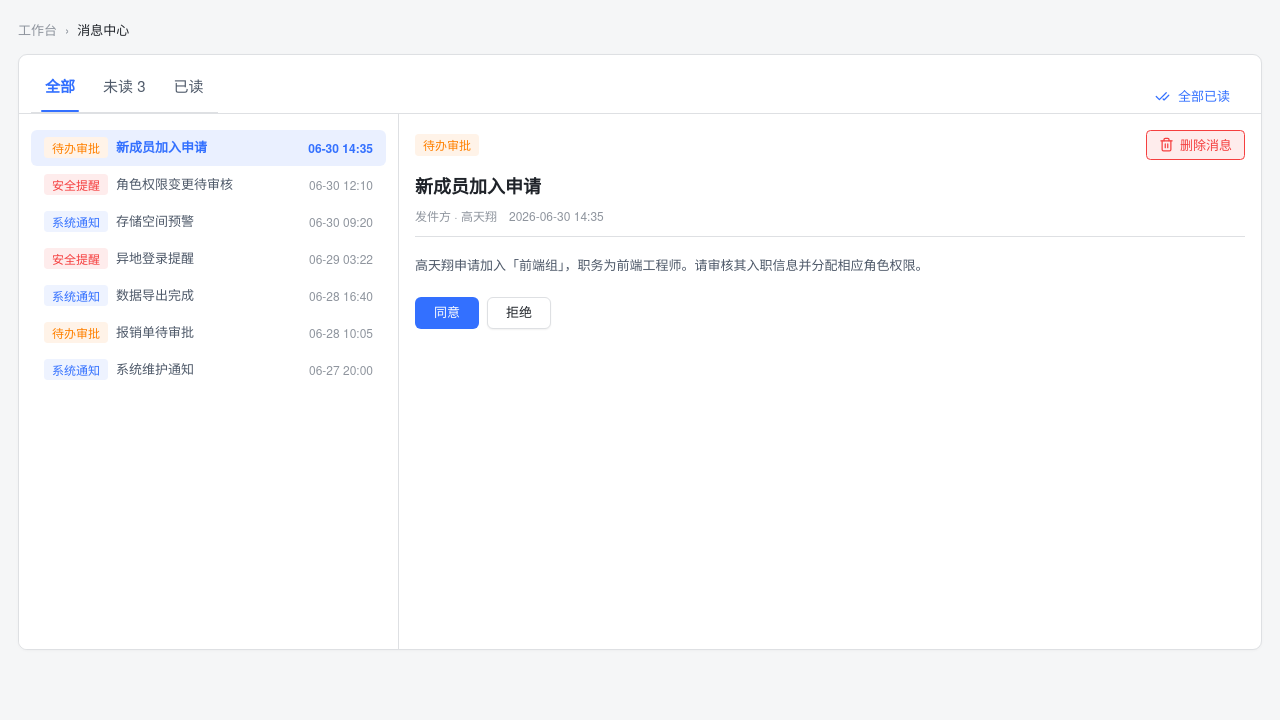
Test: 消息中心展示列表详情并在打开消息后标记已读
Check: the button "待办审批 新成员加入申请 06-30 14:35" is shown, box [31,130,386,166]
Check: the text "高天翔申请加入「前端组」，职务为前端工程师。请审核其入职信息并分配相应角色权限。" is shown, box [415,254,928,274]
Click the button "安全提醒 角色权限变更待审核 06-30 12:10" at [208, 184], box [31,166,386,202]
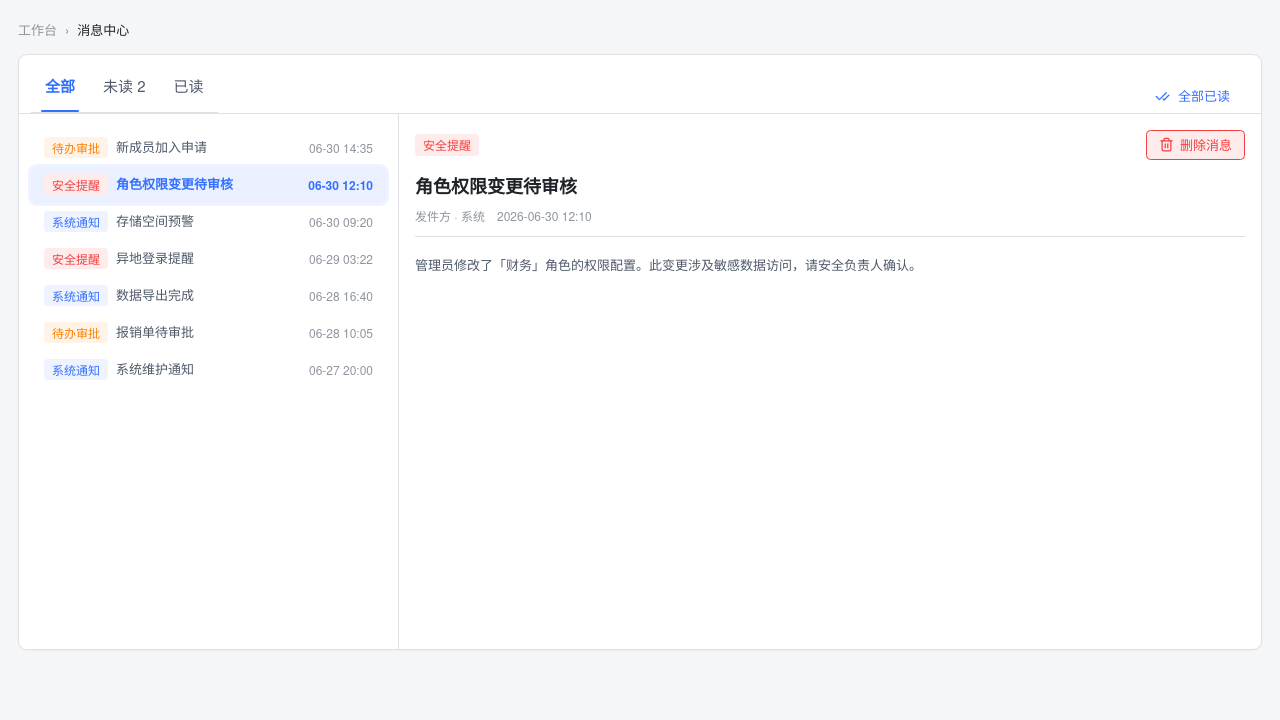
Check: the text "管理员修改了「财务」角色的权限配置。此变更涉及敏感数据访问，请安全负责人确认。" is shown, box [415,254,922,274]
Check: the tab "未读 2" is shown, box [99,75,150,112]
